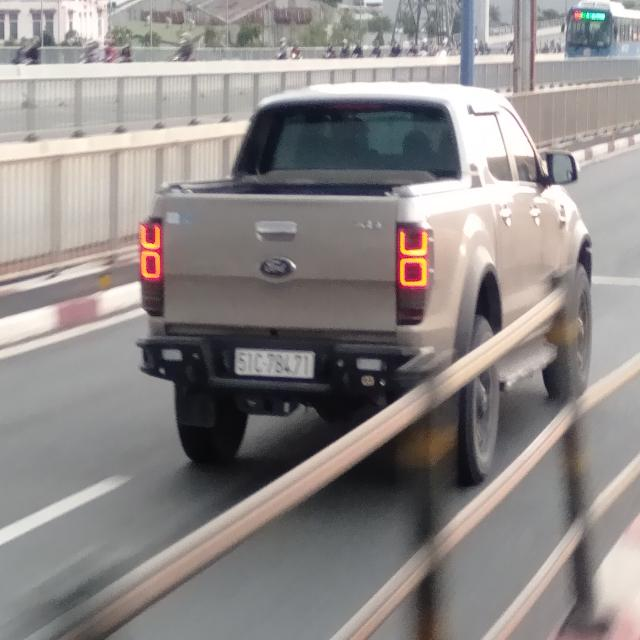bien_trang: (232, 346, 316, 379)
